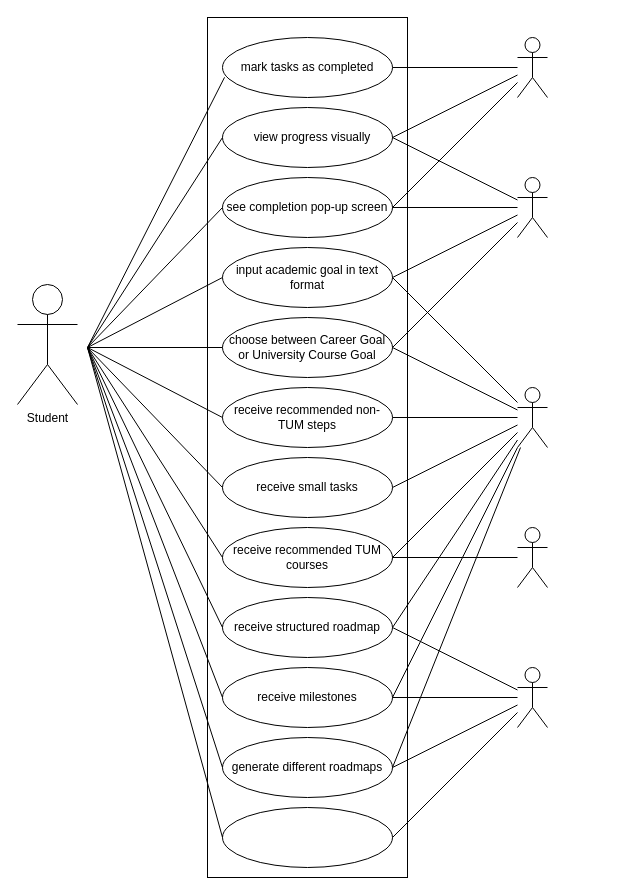
Image size: 620x895. Some labels were removed from this diagram. The centre of each missing label's shape, as x and y in pixels:
Course service: pixel 532 557
GenAI service: pixel 532 417
React Frontend: pixel 532 207
Roadmap service: pixel 532 697
store roadmaps: pixel 307 837
User and Progress service: pixel 532 67
